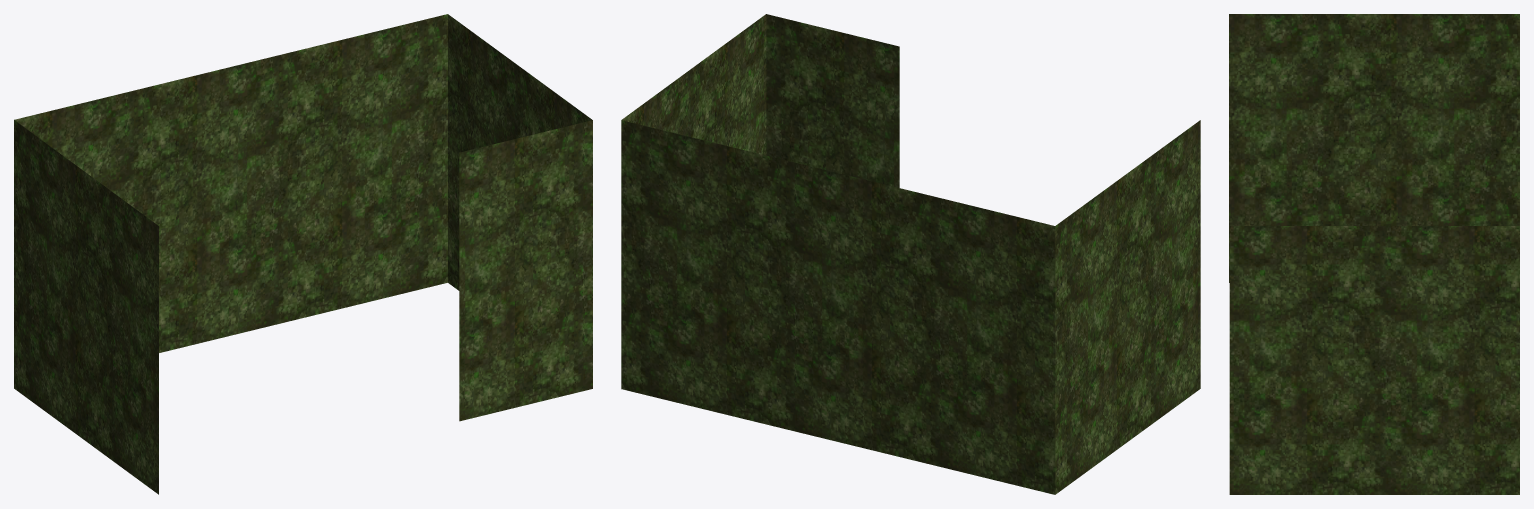
Rendered from OVERHILL_A_01_LINE229.fbx.
3 views of the same model, side by side, from view 1: azimuth 30°, elevation 25°; view 2: azimuth 150°, elevation 25°; view 3: azimuth 270°, elevation 25° (orthographic).
Visible parts, largest first — view 1: OVERHILL_A_01_LINE229; view 2: OVERHILL_A_01_LINE229; view 3: OVERHILL_A_01_LINE229.
Part boxes in pixels (left/top/right/bottom): OVERHILL_A_01_LINE229: left=14, top=14, right=592, bottom=494; OVERHILL_A_01_LINE229: left=621, top=14, right=1200, bottom=494; OVERHILL_A_01_LINE229: left=1229, top=14, right=1519, bottom=494.
Bounding box in the file's own units: 80001 × 47334 × 46374.
1 material, 1 textured.
